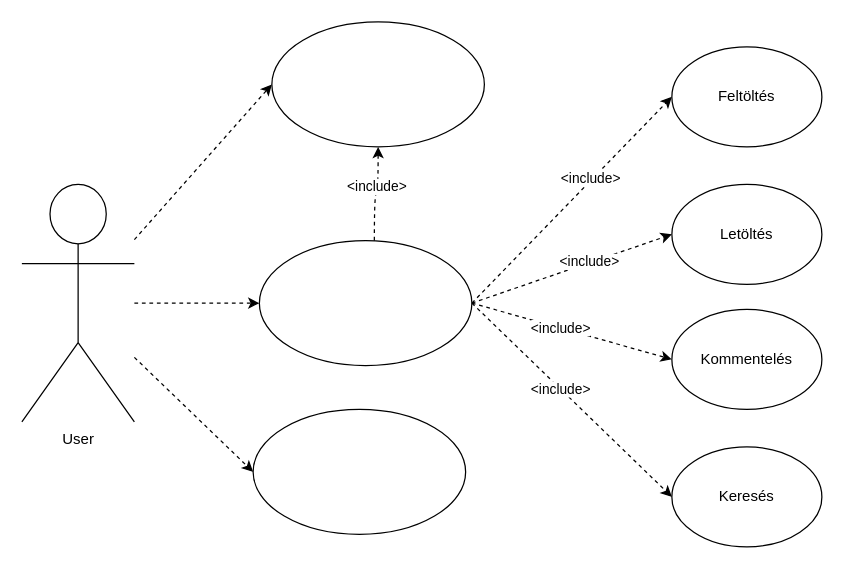
Some shapes in this 844 by 569 pixel diagram are drawn without their labels. The shapes that lost their labels are listed below. From the top down, each one's box as (x1, y1, x2, y2) in pixels, then its label:
(271, 21, 484, 147): Bejelentkezés
(258, 239, 472, 366): CAFF menedzsment
(252, 408, 466, 534): Regisztálás
